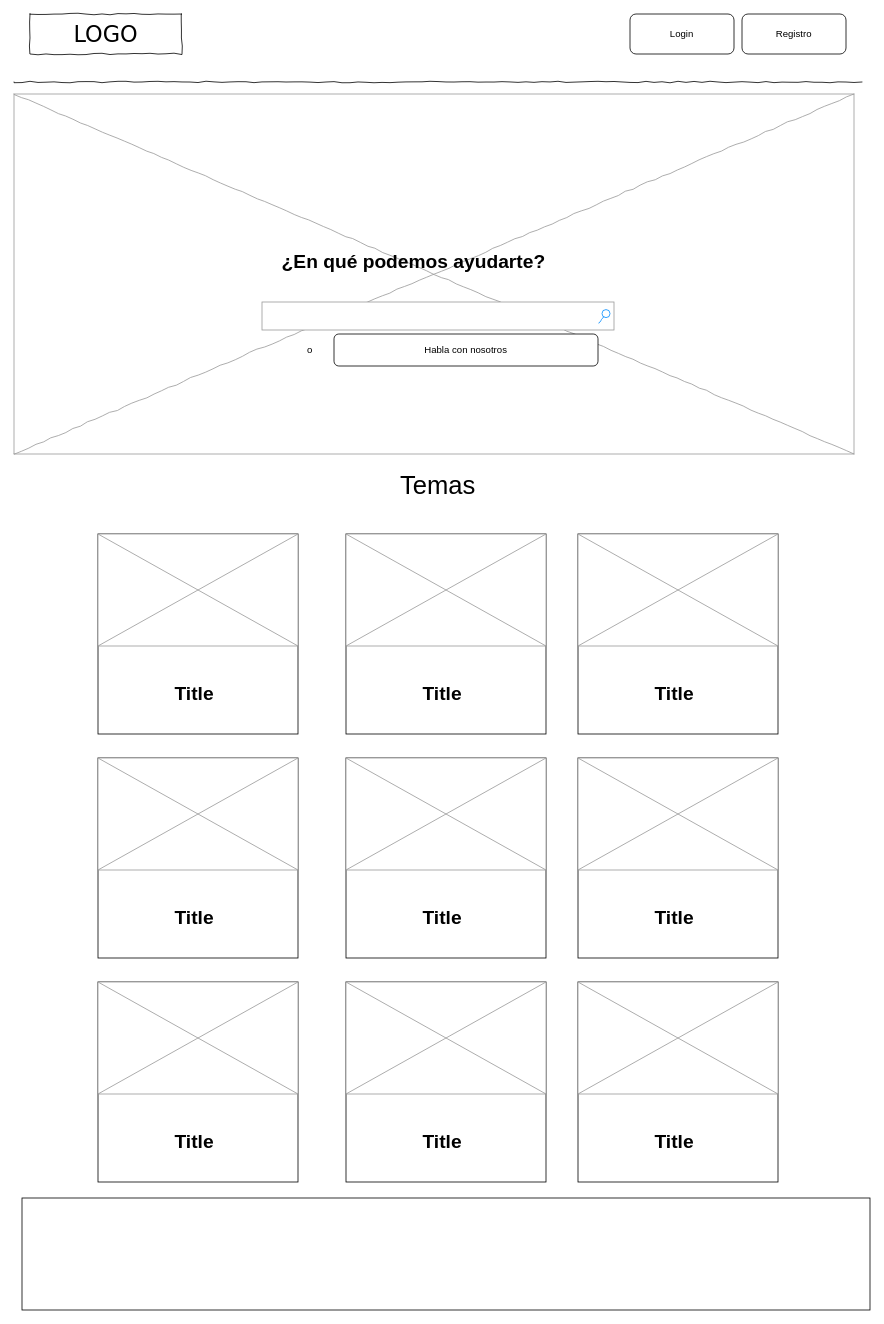
Some shapes in this 884 by 1324 pixel diagram are drawn without their labels. Each missing label, with the box of its shape:
Footer: (21, 1197, 870, 1310)
Search: (261, 301, 614, 330)
